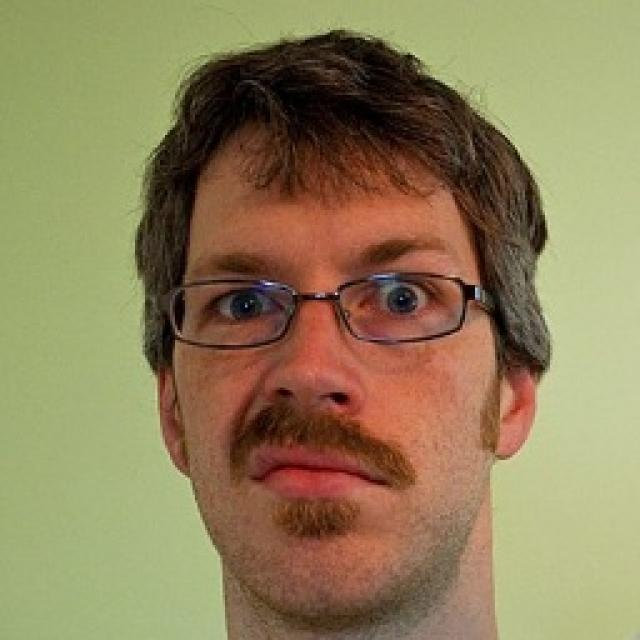glasses: (130, 260, 516, 357)
